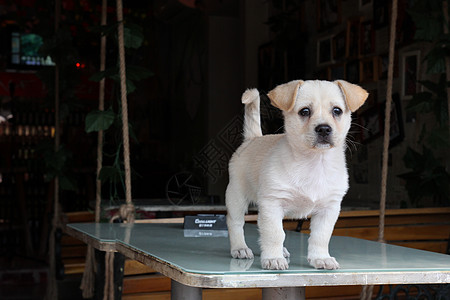dog: (225, 77, 373, 271)
